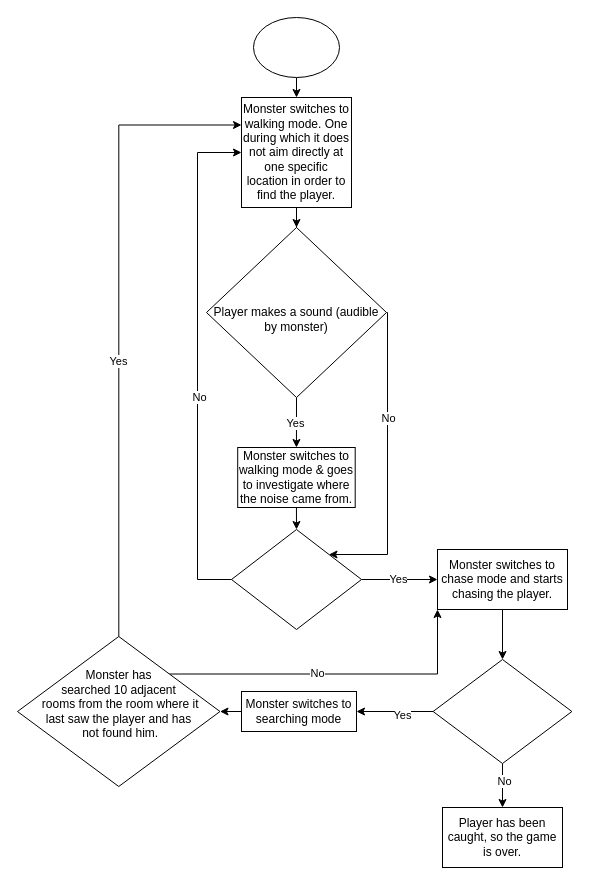
The diagram is 590 pixels wide and 885 high, and some of its shapes have lost their labels. Each missing label, with the centre of its shape:
Beginning of the game: point 296,47
Monster meets the player: point 296,579
Player escapes the monster.: point 502,711
